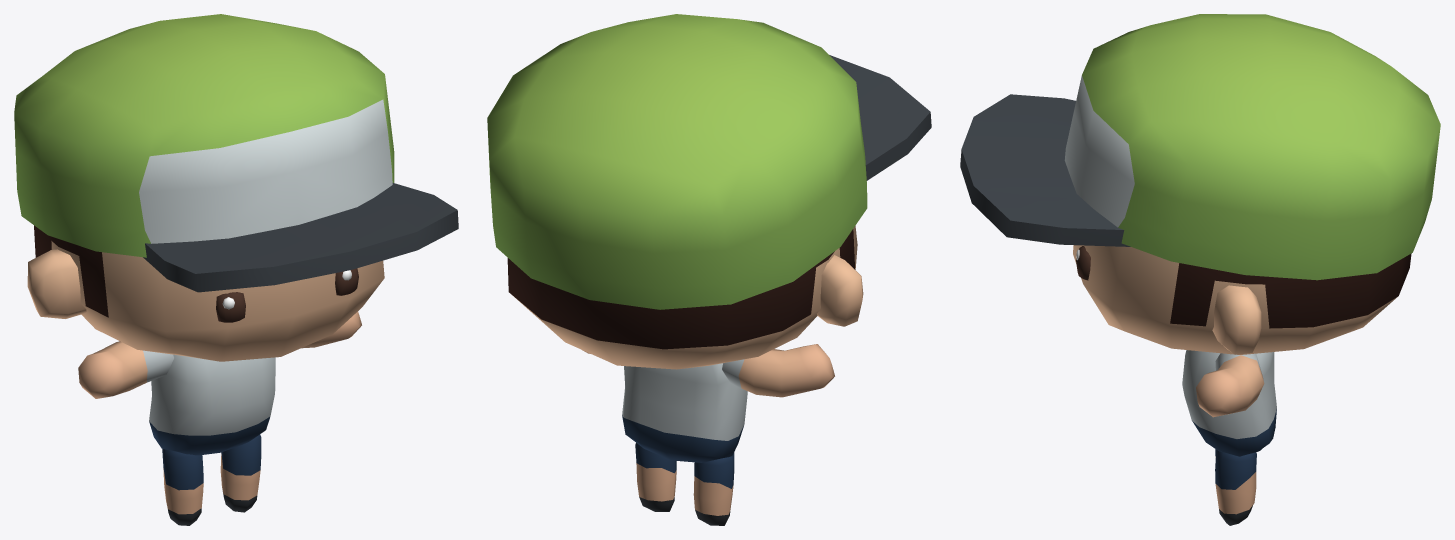
Rendered from jump_0016.obj.
The picture shows the model from 3 angles, left to right: view 1: azimuth 30°, elevation 25°; view 2: azimuth 150°, elevation 25°; view 3: azimuth 270°, elevation 25°; orthographic projection.
Parts seen in each view (by area): view 1: Object_41, Object_42, Object_36, Object_44, Object_38; view 2: Object_41, Object_36, Object_44, Object_42; view 3: Object_41, Object_36, Object_42, Object_44.
Part boxes in pixels (bbox=[...]): Object_41: bbox=[14, 14, 394, 257]; Object_42: bbox=[139, 99, 458, 292]; Object_36: bbox=[27, 225, 384, 361]; Object_44: bbox=[78, 311, 361, 525]; Object_38: bbox=[216, 268, 358, 322]; Object_41: bbox=[487, 14, 867, 309]; Object_36: bbox=[507, 225, 863, 369]; Object_44: bbox=[582, 344, 834, 525]; Object_42: bbox=[829, 55, 931, 180]; Object_41: bbox=[1082, 14, 1440, 280]; Object_36: bbox=[1073, 245, 1411, 354]; Object_42: bbox=[960, 75, 1134, 246]; Object_44: bbox=[1182, 350, 1276, 525].
Size of the model in its own units: 0.9691 by 1.23 by 1.14.
